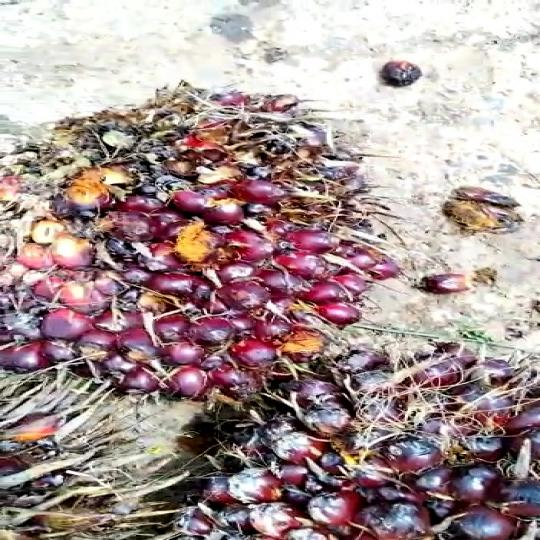masak: (0, 73, 386, 394), (159, 339, 540, 540)
